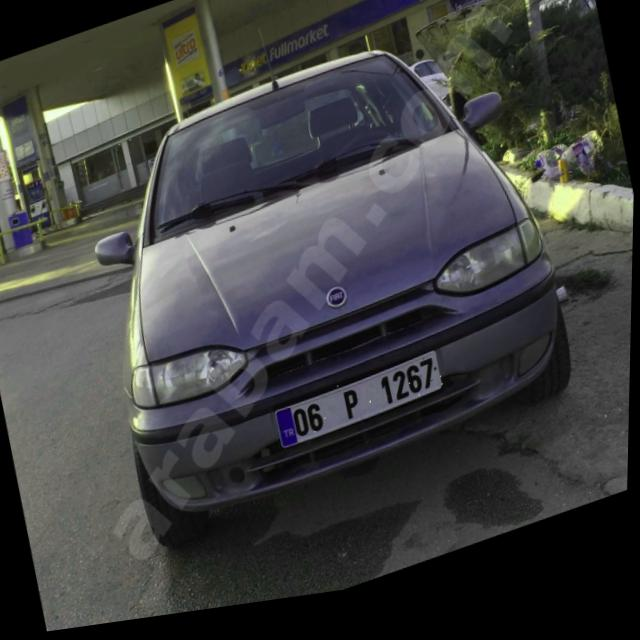license_plate: (273, 360, 447, 459)
